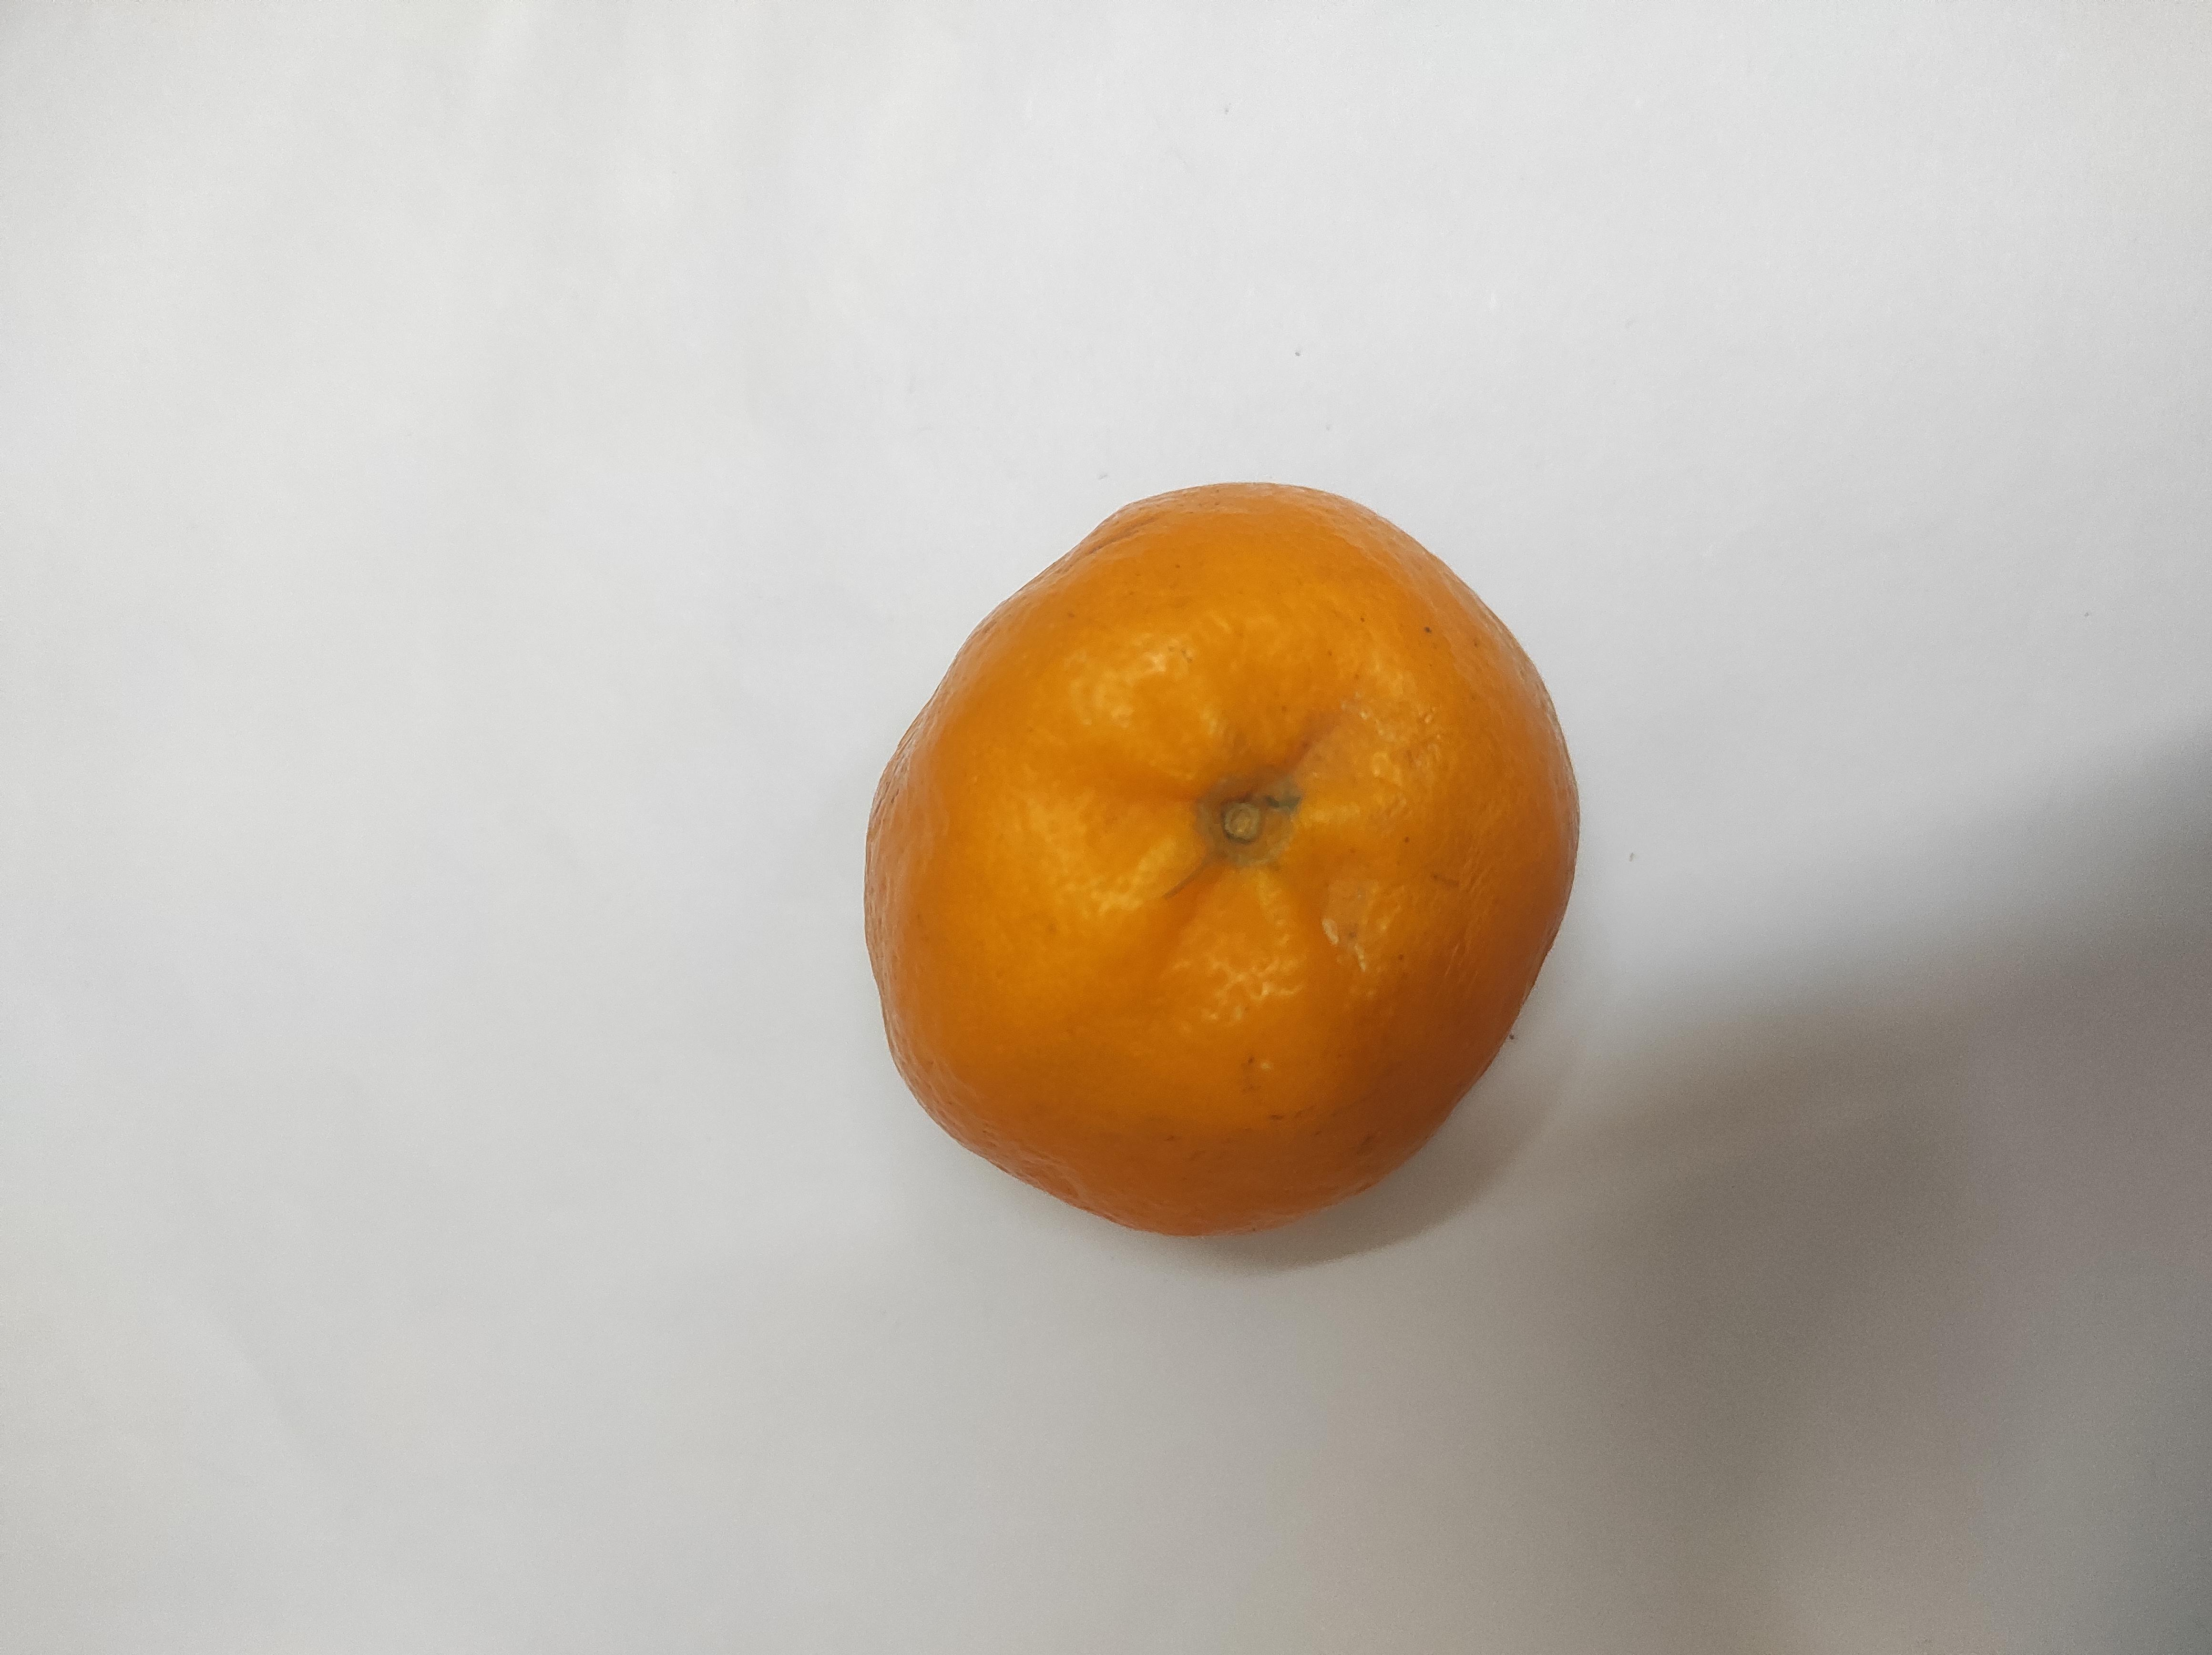Ripe: (873, 482, 1582, 1248)
